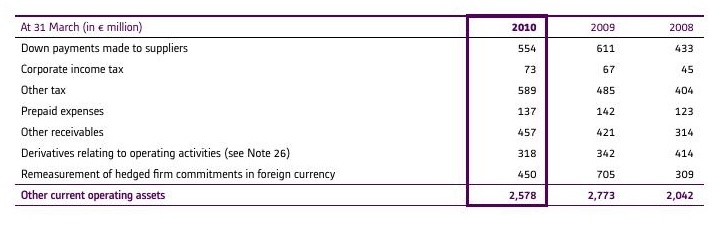table: (0, 0, 728, 225)
